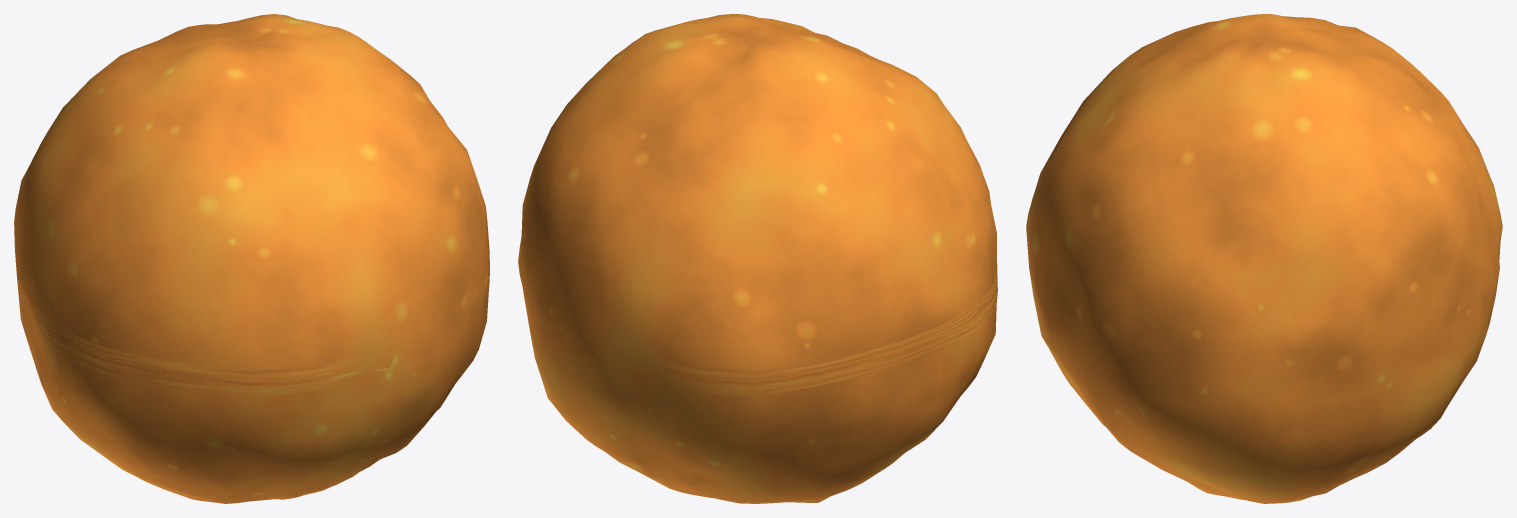
File: planet_03.glb
3 renders of one model, left to right at view 1: azimuth 30°, elevation 25°; view 2: azimuth 150°, elevation 25°; view 3: azimuth 270°, elevation 25°, orthographic.
Visible parts, largest first — view 1: Body; view 2: Body; view 3: Body.
Part boxes in pixels (x1,y1,x2,y2): Body: [14, 14, 489, 503]; Body: [518, 14, 997, 503]; Body: [1026, 14, 1502, 503].
Size of the model in its own units: 1.88 by 1.93 by 1.89.
Materials: 1 (1 with a texture image).
